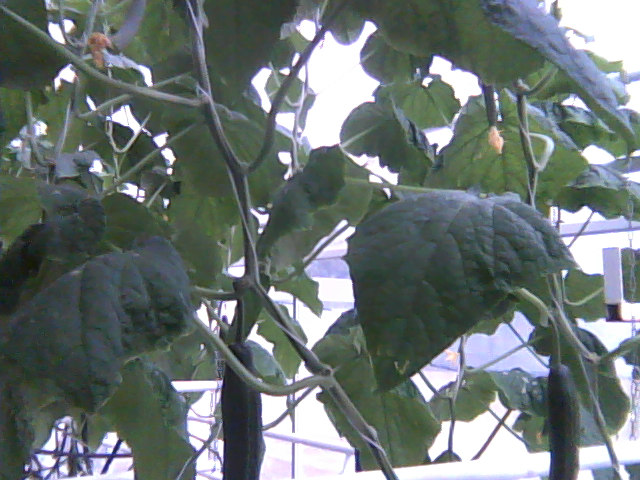concombre: (221, 336, 262, 480), (546, 360, 583, 480)
